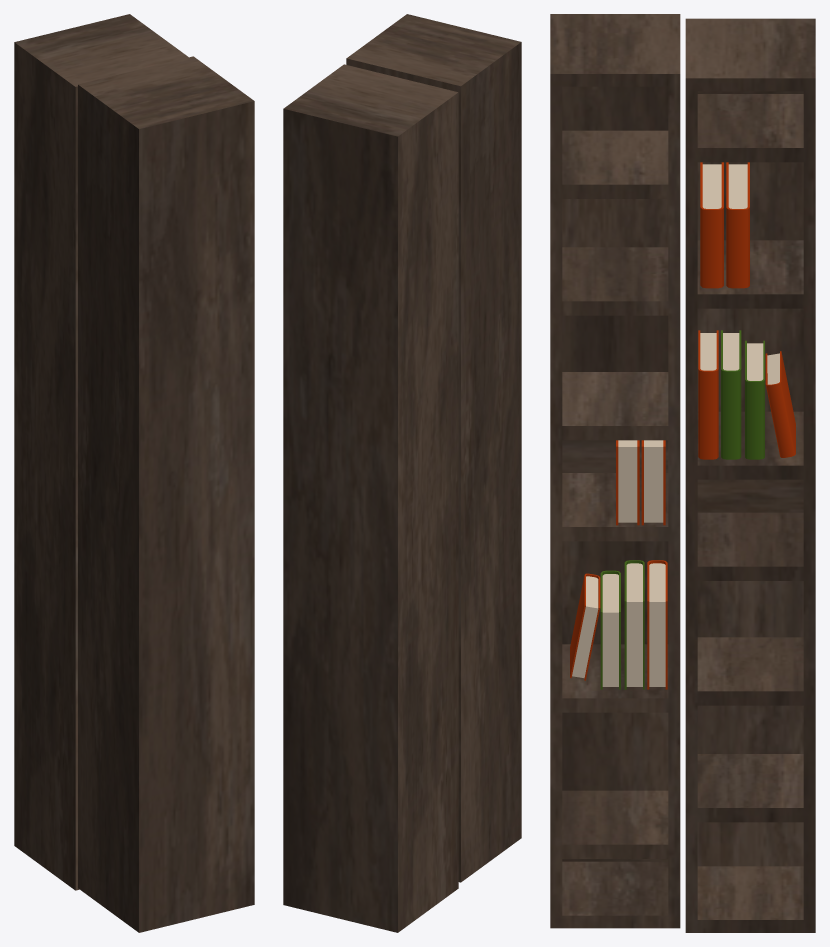
File: Books.glb
3 renders of one model, left to right at view 1: azimuth 30°, elevation 25°; view 2: azimuth 150°, elevation 25°; view 3: azimuth 270°, elevation 25°, orthographic. The views are drawn at different scales.
Visible parts, largest first — view 1: Plane.003, Plane.002; view 2: Plane.002, Plane.003; view 3: Plane.003, Plane.002, Cube.038, Cube.022.
Part boxes in pixels (x1,y1,x2,y2): Plane.003: (78,56,254,932); Plane.002: (14,14,188,890); Plane.002: (283,64,458,932); Plane.003: (346,14,521,882); Plane.003: (550,14,680,928); Plane.002: (685,18,815,932); Cube.038: (698,162,795,459); Cube.022: (570,440,667,689).
Bounding box in the file's own units: 0.4296 × 2.87 × 0.8039.
Materials: 4 (1 with a texture image).
